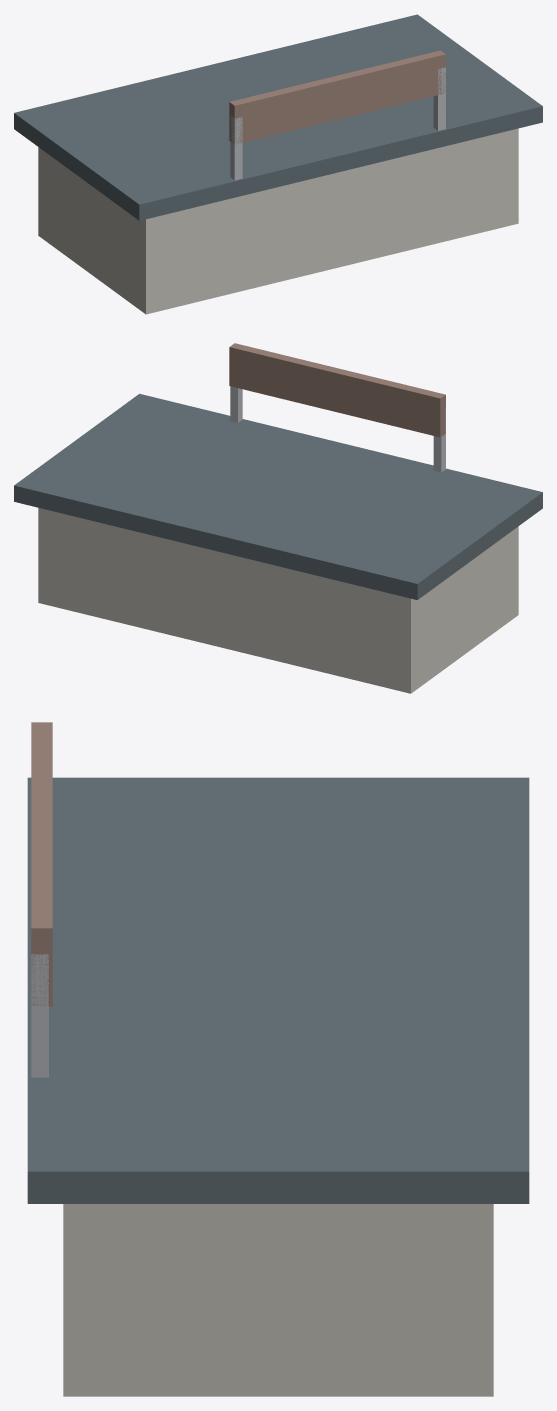
The model's file is kit_motel_lod2.glb.
3 views of the same model, one above another, from view 1: azimuth 30°, elevation 25°; view 2: azimuth 150°, elevation 25°; view 3: azimuth 270°, elevation 25° (orthographic). The views are drawn at different scales.
Parts seen in each view (by area): view 1: roof_slab, building, sign_panel, sign_post_0, sign_post_1; view 2: roof_slab, building, sign_panel, sign_post_0, sign_post_1; view 3: roof_slab, building, sign_panel, sign_post_1.
Boxes of the visible parts, x1=… form: roof_slab: x1=14, y1=14, x2=542, y2=220; building: x1=38, y1=128, x2=518, y2=314; sign_panel: x1=229, y1=50, x2=445, y2=144; sign_post_0: x1=230, y1=116, x2=242, y2=180; sign_post_1: x1=433, y1=67, x2=445, y2=130; roof_slab: x1=14, y1=393, x2=542, y2=599; building: x1=38, y1=508, x2=518, y2=693; sign_panel: x1=229, y1=343, x2=445, y2=437; sign_post_0: x1=433, y1=408, x2=445, y2=472; sign_post_1: x1=230, y1=386, x2=242, y2=422; roof_slab: x1=27, y1=777, x2=529, y2=1203; building: x1=63, y1=1204, x2=493, y2=1396; sign_panel: x1=31, y1=722, x2=52, y2=1006; sign_post_1: x1=31, y1=954, x2=48, y2=1077.
Size of the model in its own units: 13 by 6 by 7.
